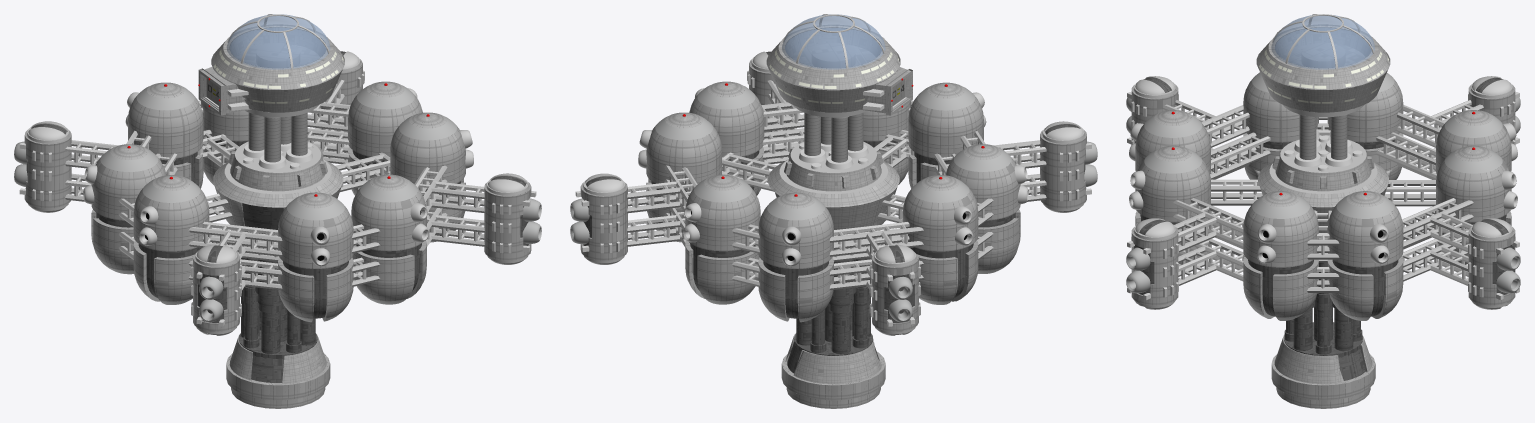
File: refinery.glb
The picture shows the model from 3 angles, left to right: view 1: azimuth 30°, elevation 25°; view 2: azimuth 150°, elevation 25°; view 3: azimuth 270°, elevation 25°; orthographic projection.
Visible parts, largest first — view 1: refinery_raw; view 2: refinery_raw; view 3: refinery_raw.
Part boxes in pixels (x1,y1,x2,y2): refinery_raw: (14,14,541,408); refinery_raw: (570,14,1097,408); refinery_raw: (1126,14,1520,408).
Size of the model in its own units: 520 by 535 by 521.
Materials: 13 (5 with a texture image).
